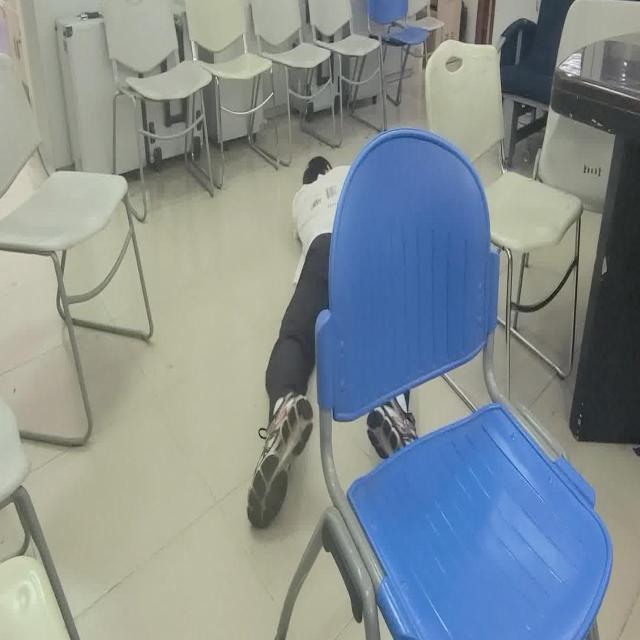fall: (246, 153, 420, 534)
